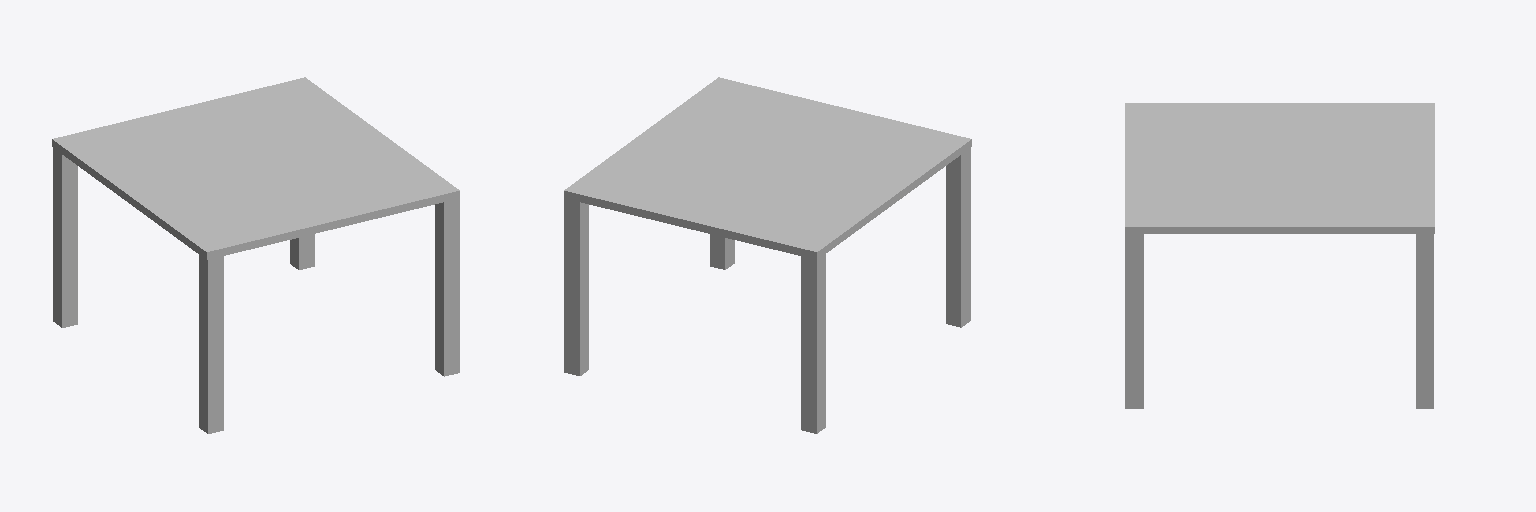
File: table.obj
3 views of the same model, side by side, from view 1: azimuth 30°, elevation 25°; view 2: azimuth 150°, elevation 25°; view 3: azimuth 270°, elevation 25° (orthographic).
Parts seen in each view (by area): view 1: Mesh5_Model, Mesh4_Group_1_4_Model, Mesh1_Group_1_1_Model, Mesh3_Group_1_3_Model, Mesh2_Group_1_2_Model; view 2: Mesh5_Model, Mesh3_Group_1_3_Model, Mesh2_Group_1_2_Model, Mesh4_Group_1_4_Model, Mesh1_Group_1_1_Model; view 3: Mesh5_Model, Mesh1_Group_1_1_Model, Mesh2_Group_1_2_Model.
Boxes of the visible parts, <box> form: Mesh5_Model: <box>52,77,459,259</box>; Mesh4_Group_1_4_Model: <box>199,255,223,433</box>; Mesh1_Group_1_1_Model: <box>435,199,459,376</box>; Mesh3_Group_1_3_Model: <box>53,148,77,327</box>; Mesh2_Group_1_2_Model: <box>290,234,314,269</box>; Mesh5_Model: <box>564,77,971,259</box>; Mesh3_Group_1_3_Model: <box>801,254,825,433</box>; Mesh2_Group_1_2_Model: <box>564,199,588,375</box>; Mesh4_Group_1_4_Model: <box>946,148,970,327</box>; Mesh1_Group_1_1_Model: <box>710,234,734,269</box>; Mesh5_Model: <box>1125,103,1434,233</box>; Mesh1_Group_1_1_Model: <box>1125,234,1143,408</box>; Mesh2_Group_1_2_Model: <box>1416,234,1433,408</box>.
Bounding box in the file's own units: 286 × 197 × 303.